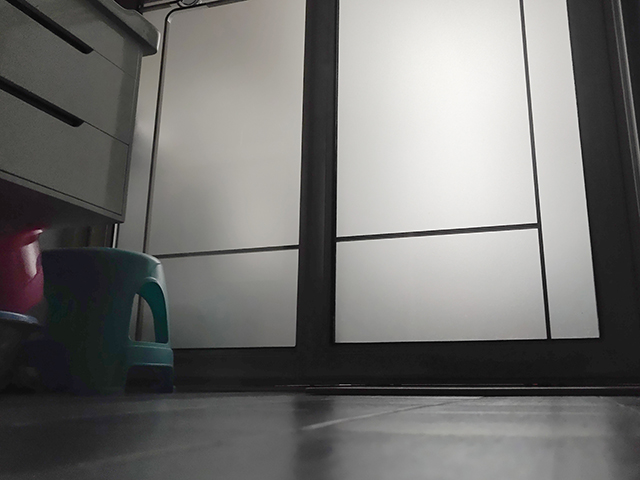stool: (43, 245, 178, 397)
